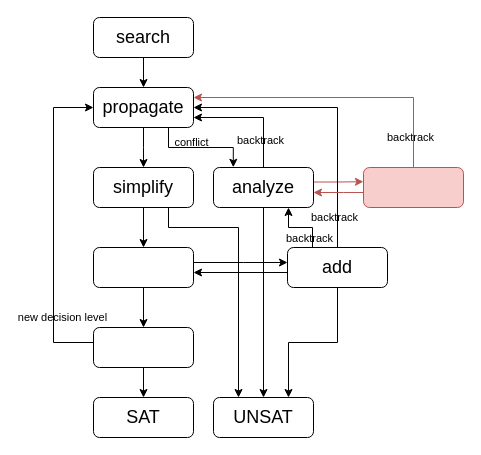
Image size: 481x455. Some labels were removed from this diagram. Here are the shapes that lost their labels. From the top down, the centre of each, then its label:
At (x=413, y=187): "add reason".
At (x=143, y=267): "interact".
At (x=143, y=347): "decide".
